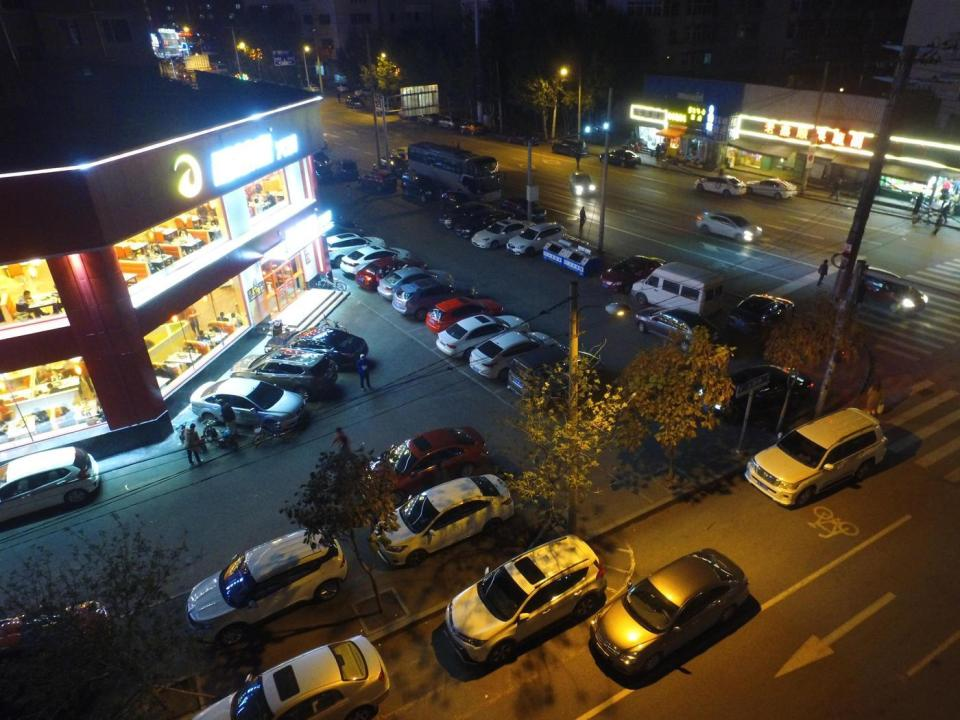bus: (407, 141, 505, 203)
car: (588, 548, 749, 679), (186, 527, 348, 647), (190, 634, 390, 720), (373, 473, 516, 567), (354, 426, 489, 505), (0, 600, 112, 676), (0, 446, 101, 529), (698, 365, 813, 421), (188, 379, 306, 427), (468, 331, 556, 384), (435, 313, 531, 360), (264, 328, 368, 371), (636, 304, 721, 350), (851, 267, 928, 315), (727, 293, 794, 344), (392, 280, 473, 319), (599, 256, 665, 296), (426, 296, 500, 331), (377, 269, 454, 299), (471, 217, 537, 251), (694, 210, 762, 243), (507, 221, 568, 256), (339, 246, 412, 274), (356, 256, 422, 286), (455, 210, 516, 237), (440, 201, 494, 228), (502, 196, 547, 222), (747, 178, 798, 200), (694, 176, 747, 196), (358, 170, 397, 195), (599, 149, 641, 167), (379, 155, 409, 174), (507, 130, 540, 146), (460, 121, 486, 136), (437, 115, 459, 130), (418, 112, 436, 123), (353, 88, 373, 96), (304, 84, 320, 92), (337, 84, 351, 90)
van: (446, 534, 608, 666), (744, 408, 887, 509), (508, 343, 606, 409), (630, 262, 724, 319), (232, 352, 339, 400), (323, 233, 387, 264), (403, 172, 438, 203), (551, 137, 588, 159), (570, 172, 596, 198), (440, 190, 468, 214), (339, 158, 359, 178), (314, 150, 332, 171), (345, 96, 366, 109), (398, 106, 415, 120), (209, 63, 227, 76), (375, 103, 394, 114)
